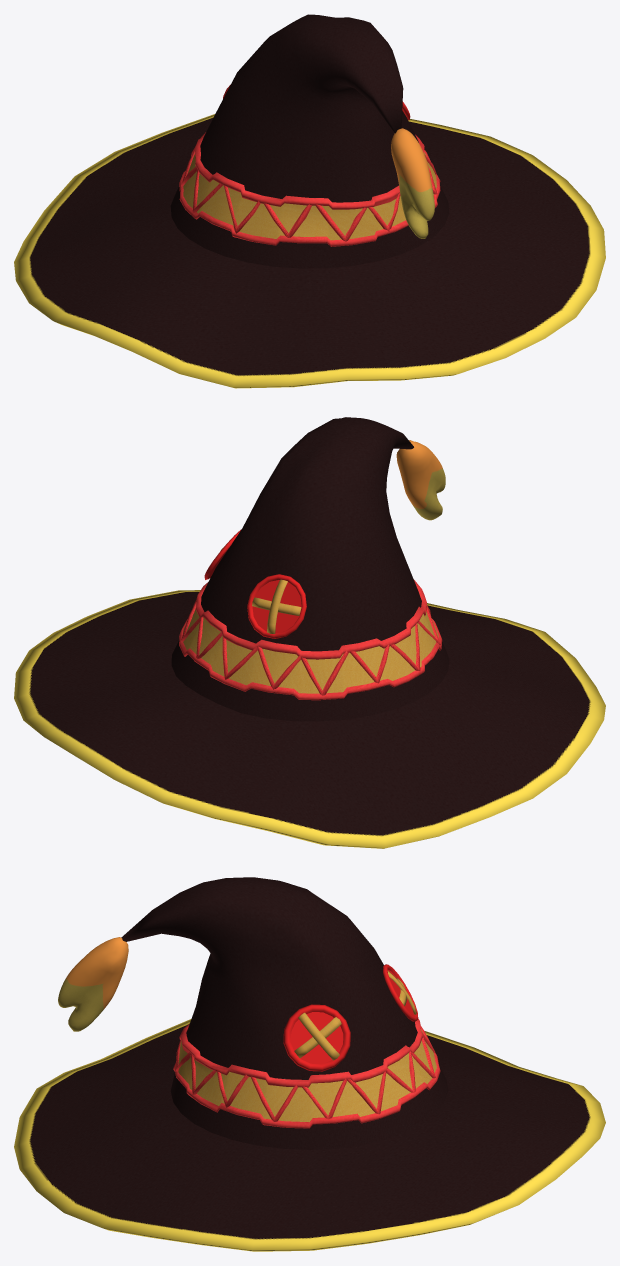
Rendered from hat.glb.
The picture shows the model from 3 angles, top to bottom: view 1: azimuth 30°, elevation 25°; view 2: azimuth 150°, elevation 25°; view 3: azimuth 270°, elevation 25°; orthographic projection.
Parts seen in each view (by area): view 1: Megumin's Hat.001; view 2: Megumin's Hat.001; view 3: Megumin's Hat.001.
Boxes of the visible parts, x1,y1,x2,y2 form: Megumin's Hat.001: (14, 14, 605, 388); Megumin's Hat.001: (14, 417, 605, 848); Megumin's Hat.001: (14, 877, 605, 1251).
Size of the model in its own units: 0.6271 by 0.3231 by 0.6271.
1 material, 1 textured.
